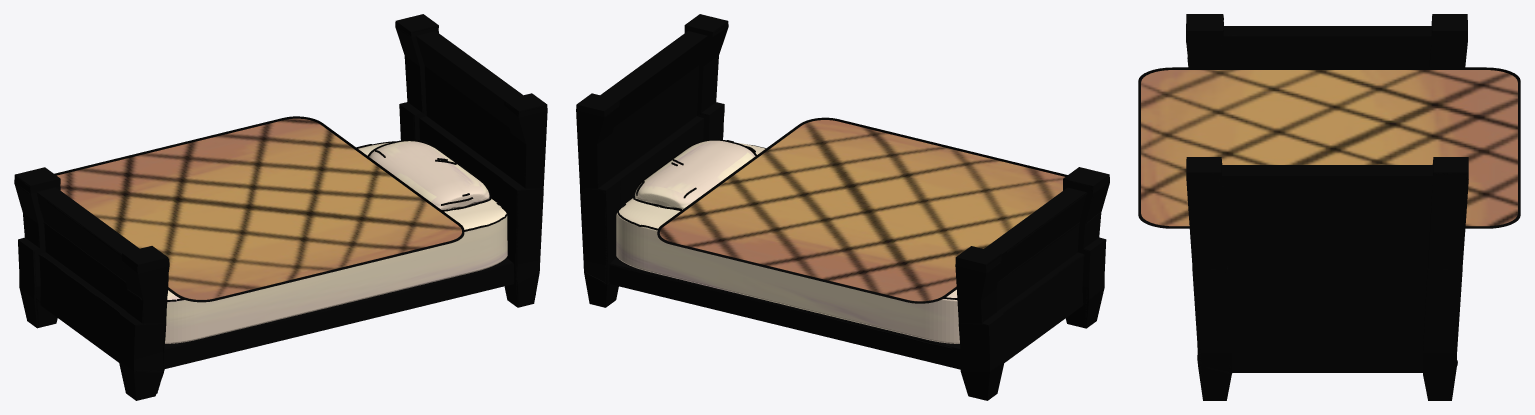
Rendered from betterbed.fbx.
3 views of the same model, side by side, from view 1: azimuth 30°, elevation 25°; view 2: azimuth 150°, elevation 25°; view 3: azimuth 270°, elevation 25° (orthographic). The views are drawn at different scales.
Visible parts, largest first — view 1: bed, bedblanket, bedmatress, bedpillow, GP_Layer; view 2: bed, bedblanket, bedmatress, bedpillow, GP_Layer; view 3: bed, bedblanket, GP_Layer.
Part boxes in pixels (x1=…): bed: x1=14, y1=14, x2=547, y2=400; bedblanket: x1=54, y1=116, x2=464, y2=302; bedmatress: x1=165, y1=143, x2=507, y2=343; bedpillow: x1=367, y1=140, x2=491, y2=210; GP_Layer: x1=15, y1=26, x2=545, y2=393; bed: x1=576, y1=14, x2=1109, y2=400; bedblanket: x1=657, y1=117, x2=1067, y2=303; bedmatress: x1=616, y1=143, x2=959, y2=343; bedpillow: x1=633, y1=139, x2=756, y2=210; GP_Layer: x1=585, y1=24, x2=1109, y2=371; bed: x1=1186, y1=14, x2=1468, y2=400; bedblanket: x1=1138, y1=67, x2=1520, y2=228; GP_Layer: x1=1186, y1=15, x2=1466, y2=398.
Bounding box in the file's own units: 474 × 225 × 336.
